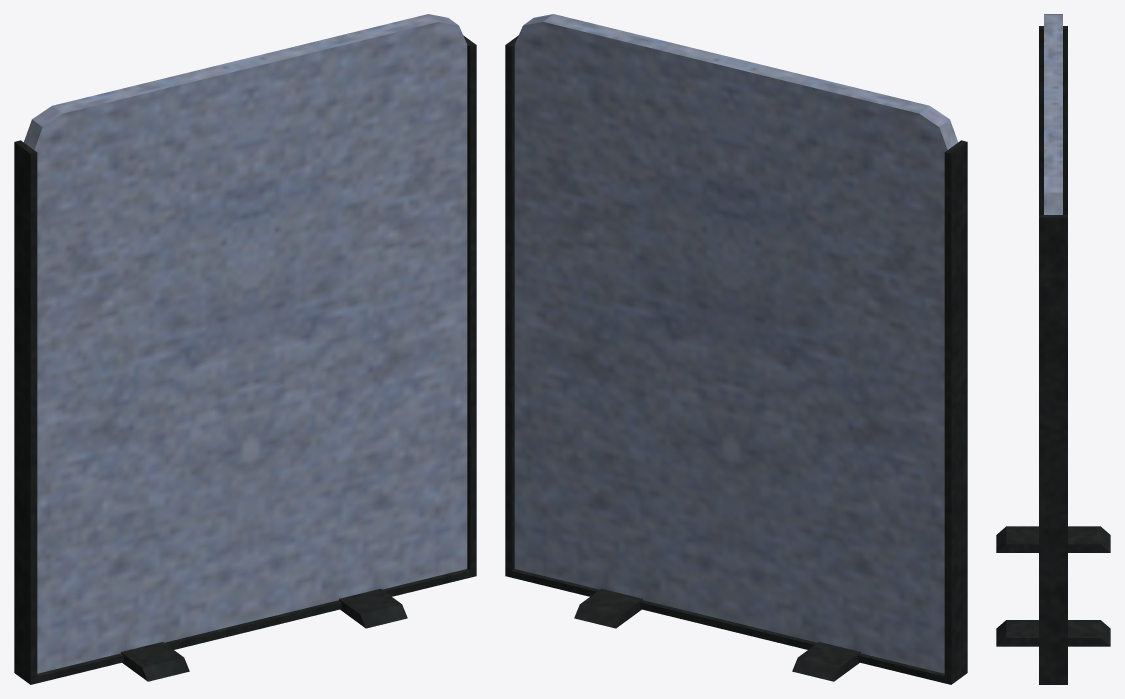
File: divider_black_blue_half.obj
3 renders of one model, left to right at view 1: azimuth 30°, elevation 25°; view 2: azimuth 150°, elevation 25°; view 3: azimuth 270°, elevation 25°, orthographic. The views are drawn at different scales.
Visible parts, largest first — view 1: divider_black_blue_half; view 2: divider_black_blue_half; view 3: divider_black_blue_half.
Boxes of the visible parts, left/top/right/bottom form: divider_black_blue_half: left=14, top=14, right=476, bottom=684; divider_black_blue_half: left=505, top=14, right=967, bottom=684; divider_black_blue_half: left=996, top=14, right=1110, bottom=684.
Size of the model in its own units: 2.07 by 2.5 by 0.523.
